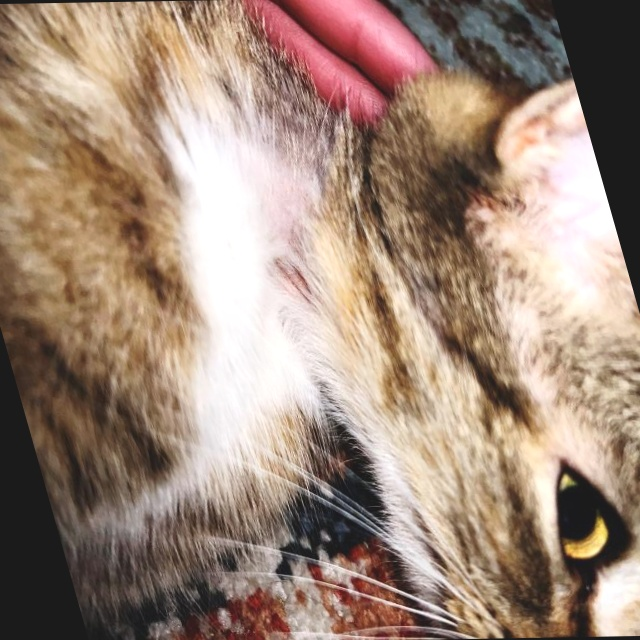hairloss: (226, 123, 364, 331)
